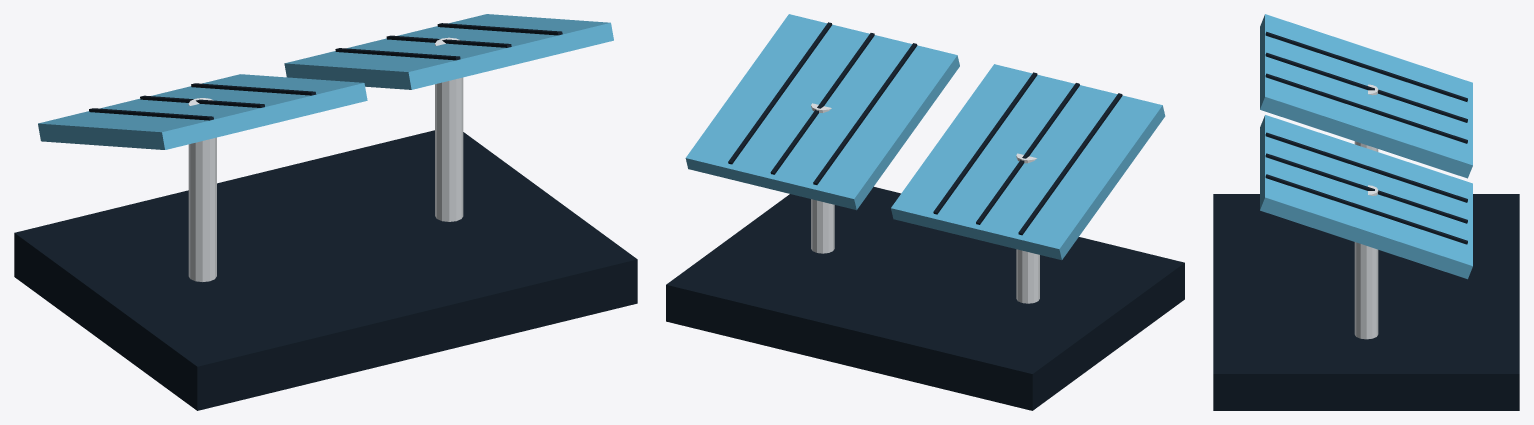
The model's file is station-solar.glb.
The picture shows the model from 3 angles, left to right: view 1: azimuth 30°, elevation 25°; view 2: azimuth 150°, elevation 25°; view 3: azimuth 270°, elevation 25°; orthographic projection. The views are drawn at different scales.
Parts seen in each view (by area): view 1: foundation, solar-panel (×2), mast (×2), cell-divider (×6); view 2: foundation, solar-panel (×2), cell-divider (×6), mast (×2); view 3: foundation, solar-panel (×2), cell-divider (×6), mast.
Boxes of the visible parts, left/top/right/bottom form: foundation: left=14, top=130, right=637, bottom=410; solar-panel (×2): left=38, top=14, right=613, bottom=149; mast (×2): left=188, top=37, right=463, bottom=281; cell-divider (×6): left=89, top=23, right=562, bottom=120; foundation: left=666, top=187, right=1184, bottom=410; solar-panel (×2): left=685, top=14, right=1165, bottom=260; cell-divider (×6): left=728, top=22, right=1122, bottom=235; mast (×2): left=811, top=103, right=1039, bottom=303; foundation: left=1213, top=194, right=1519, bottom=410; solar-panel (×2): left=1260, top=14, right=1472, bottom=279; cell-divider (×6): left=1265, top=31, right=1467, bottom=244; mast: left=1354, top=185, right=1378, bottom=339.
Size of the model in its own units: 2.55 by 1.41 by 1.8.
